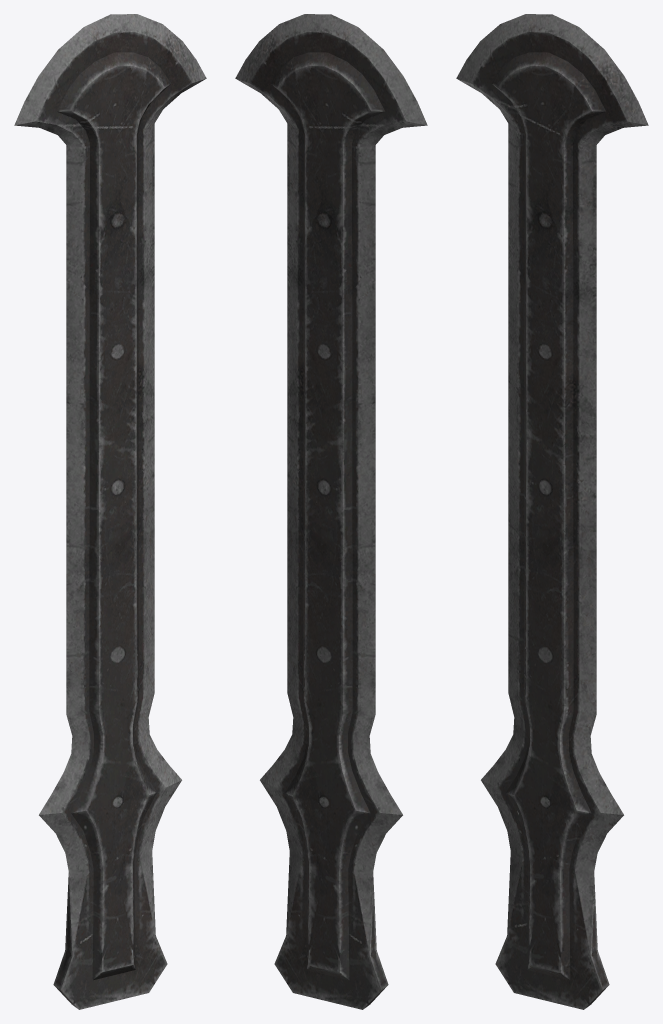
File: sm_uruk_sword_blade_a1.fbx
3 renders of one model, left to right at view 1: azimuth 30°, elevation 25°; view 2: azimuth 150°, elevation 25°; view 3: azimuth 330°, elevation 25°, orthographic.
Parts seen in each view (by area): view 1: sm_uruk_sword_blade_a1; view 2: sm_uruk_sword_blade_a1; view 3: sm_uruk_sword_blade_a1.
Boxes of the visible parts, left/top/right/bottom form: sm_uruk_sword_blade_a1: left=14, top=14, right=206, bottom=1009; sm_uruk_sword_blade_a1: left=235, top=14, right=427, bottom=1009; sm_uruk_sword_blade_a1: left=456, top=14, right=648, bottom=1009.
Size of the model in its own units: 0.1535 by 0.02 by 0.75.
Materials: 1 (1 with a texture image).
